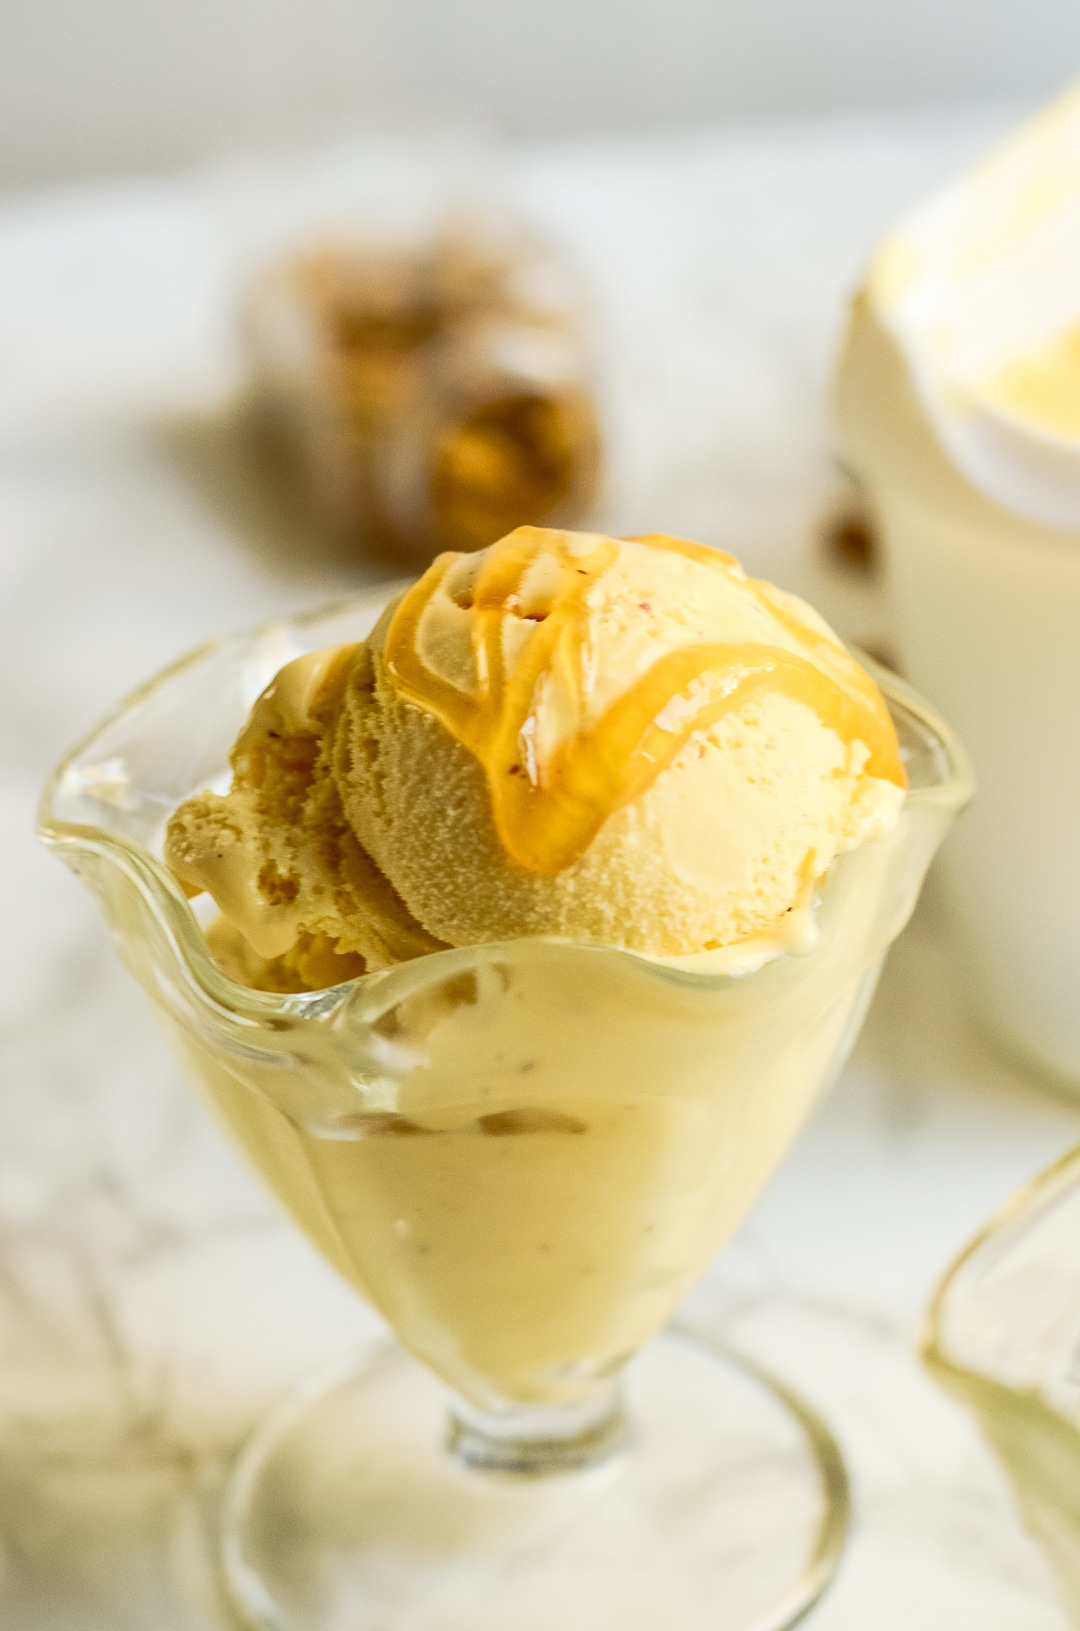ice-cream: (164, 529, 904, 984)
